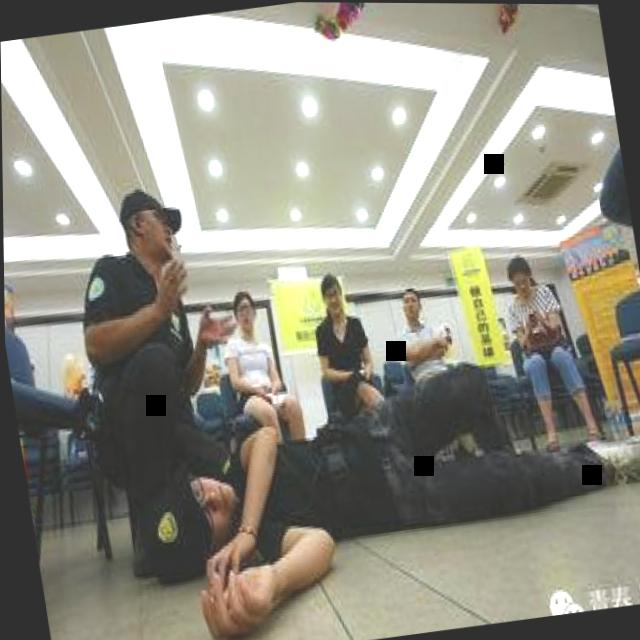Fall-Detected: (166, 349, 640, 610)
